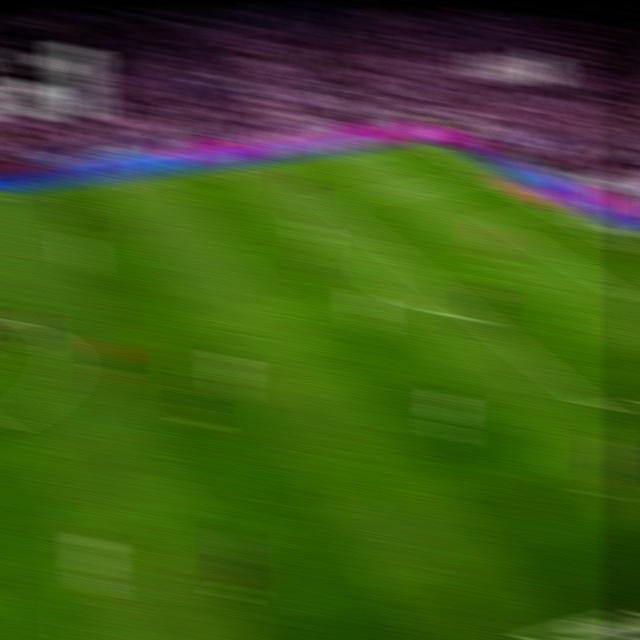bigarea_bottom_inner: (584, 395, 615, 422)
bigarea_top_inner: (316, 192, 342, 211)
bigarea_top_outter: (470, 168, 496, 183)
bottom_arc_area_intersection: (466, 307, 493, 328)
corner: (405, 136, 432, 149)
smallarea_bottom_inner: (623, 289, 640, 312)
smallarea_top_inner: (485, 213, 508, 226)
top_arc_area_intersection: (375, 237, 402, 256)
